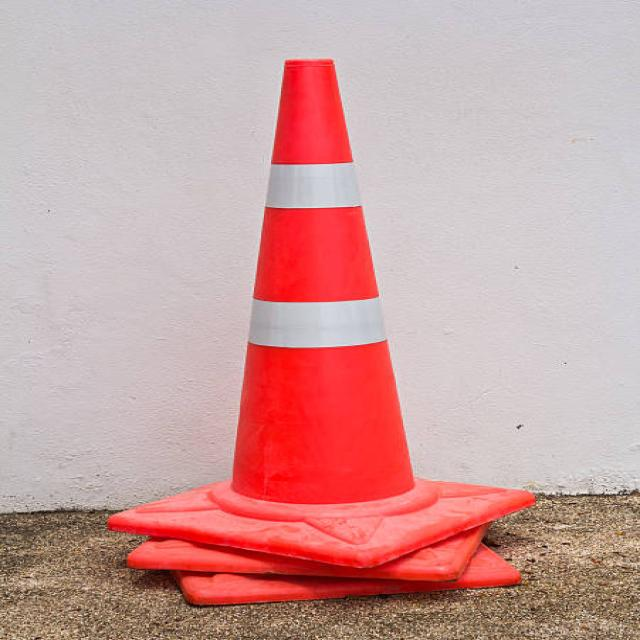Traffic Cone: (87, 31, 556, 584)
